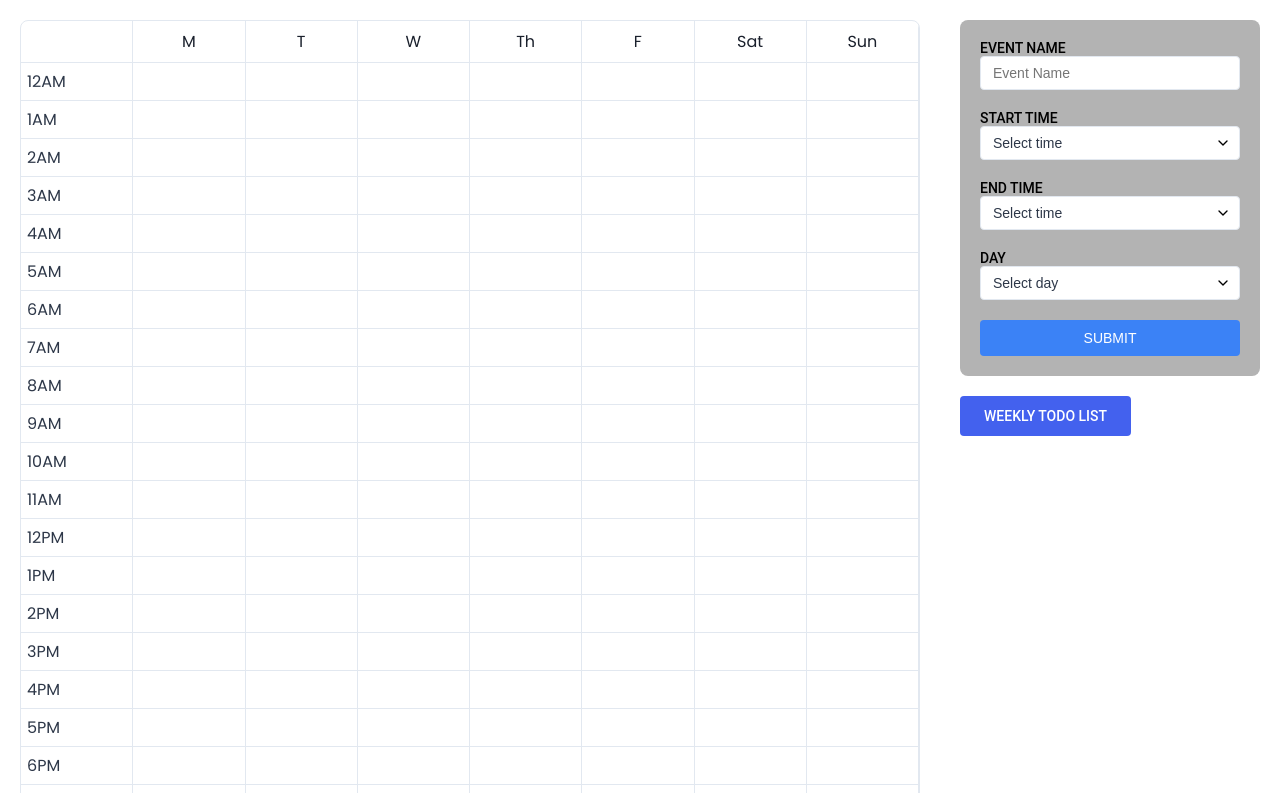
Test: Calendar Function Tests › tests createEvent
Type "New Event" into the field with placeholder "Event Name".
click(1110, 73); type("New Event")  # box top-left (980, 56), bottom-right (1240, 90)
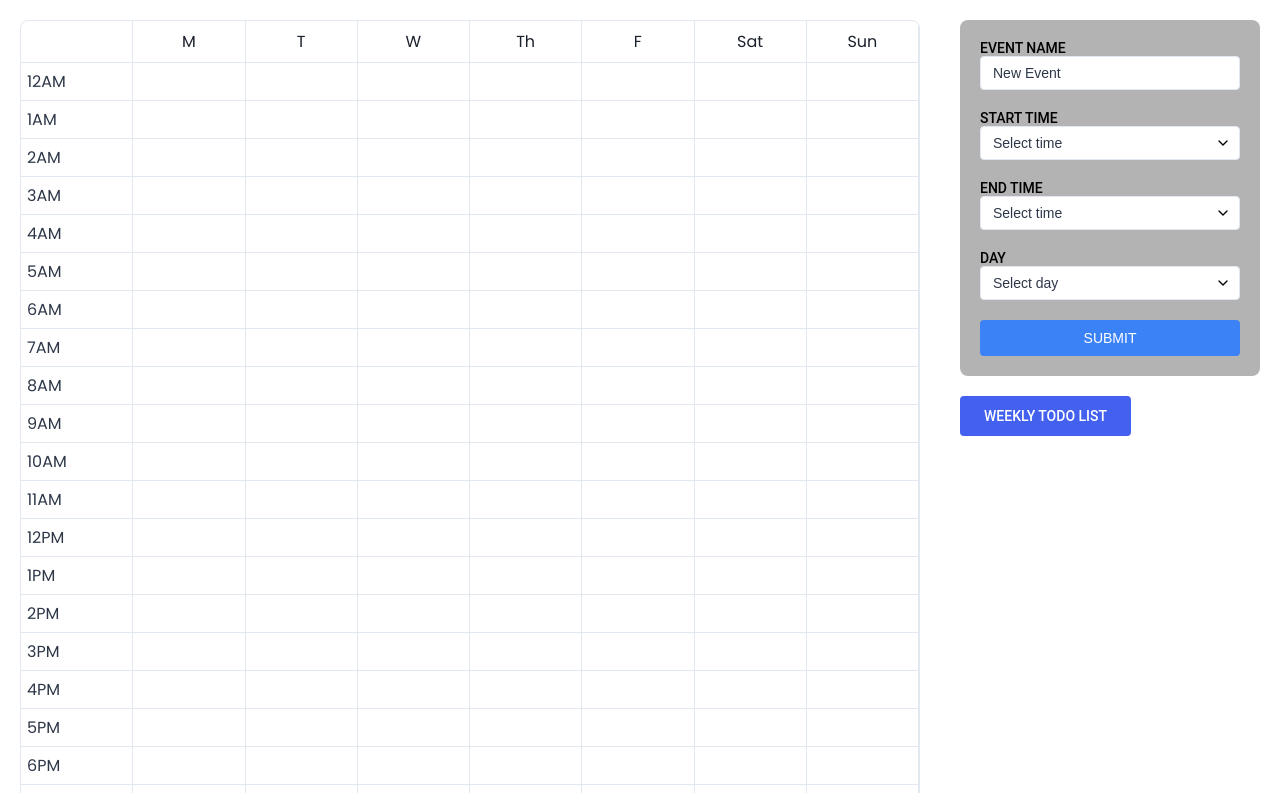
Select "1AM" in the dropdown labelled "Start Time" at [1110, 143], box top-left (980, 126), bottom-right (1240, 160)
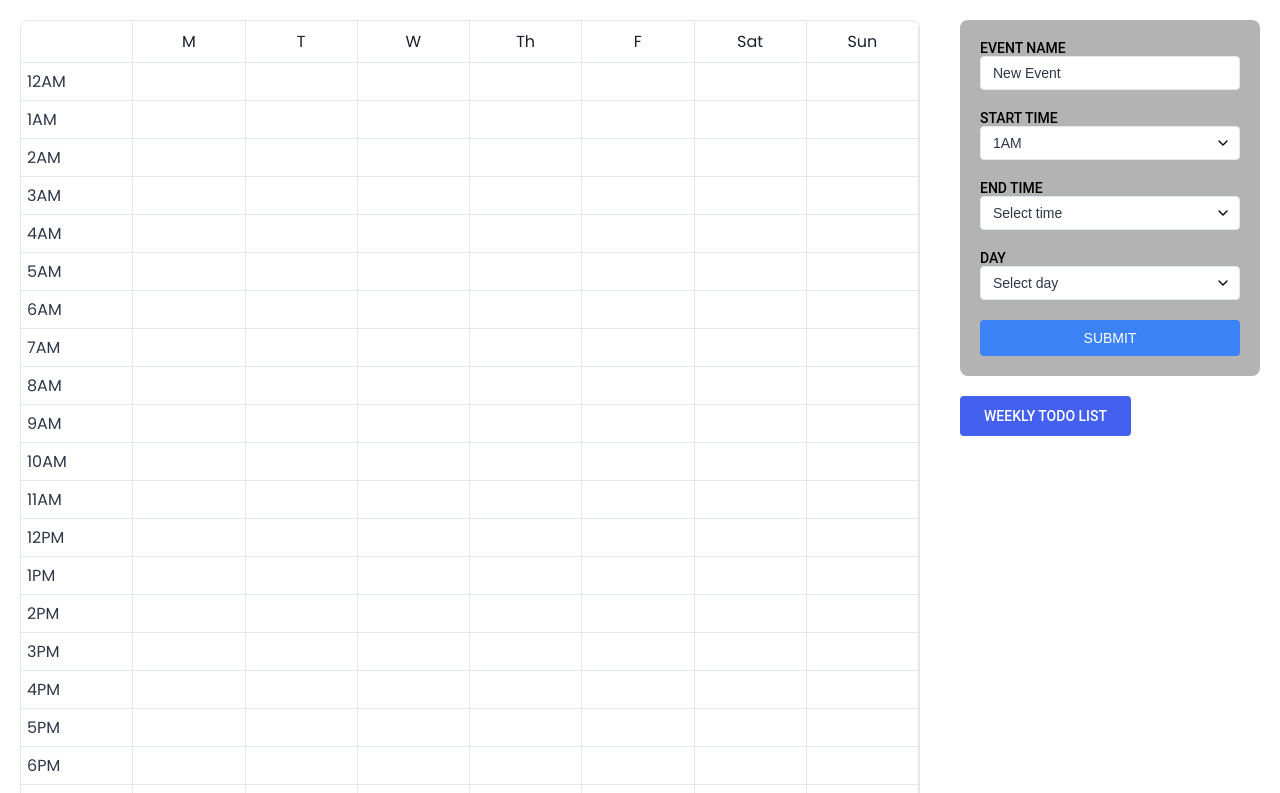
Select "3AM" in the dropdown labelled "End Time" at [1110, 213], box top-left (980, 196), bottom-right (1240, 230)
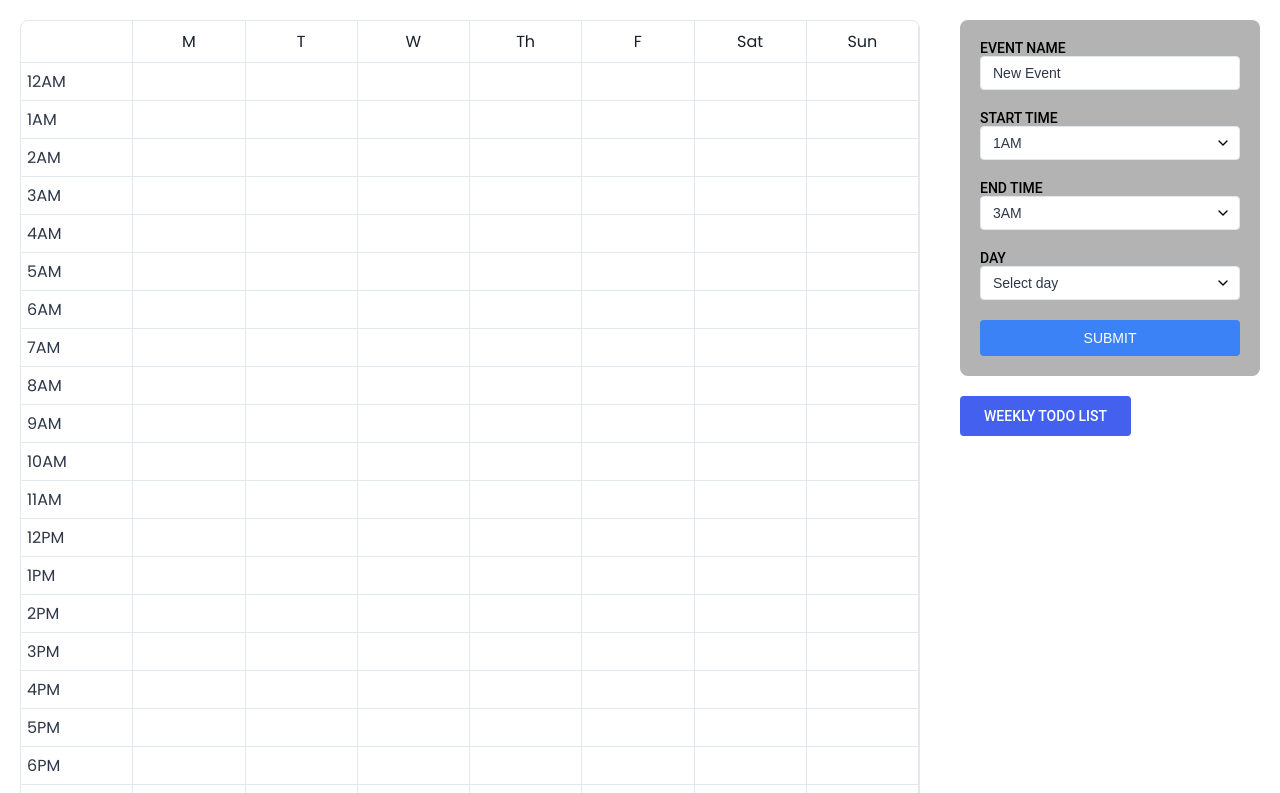
Select "M" in the dropdown labelled "Day" at [1110, 283], box top-left (980, 266), bottom-right (1240, 300)
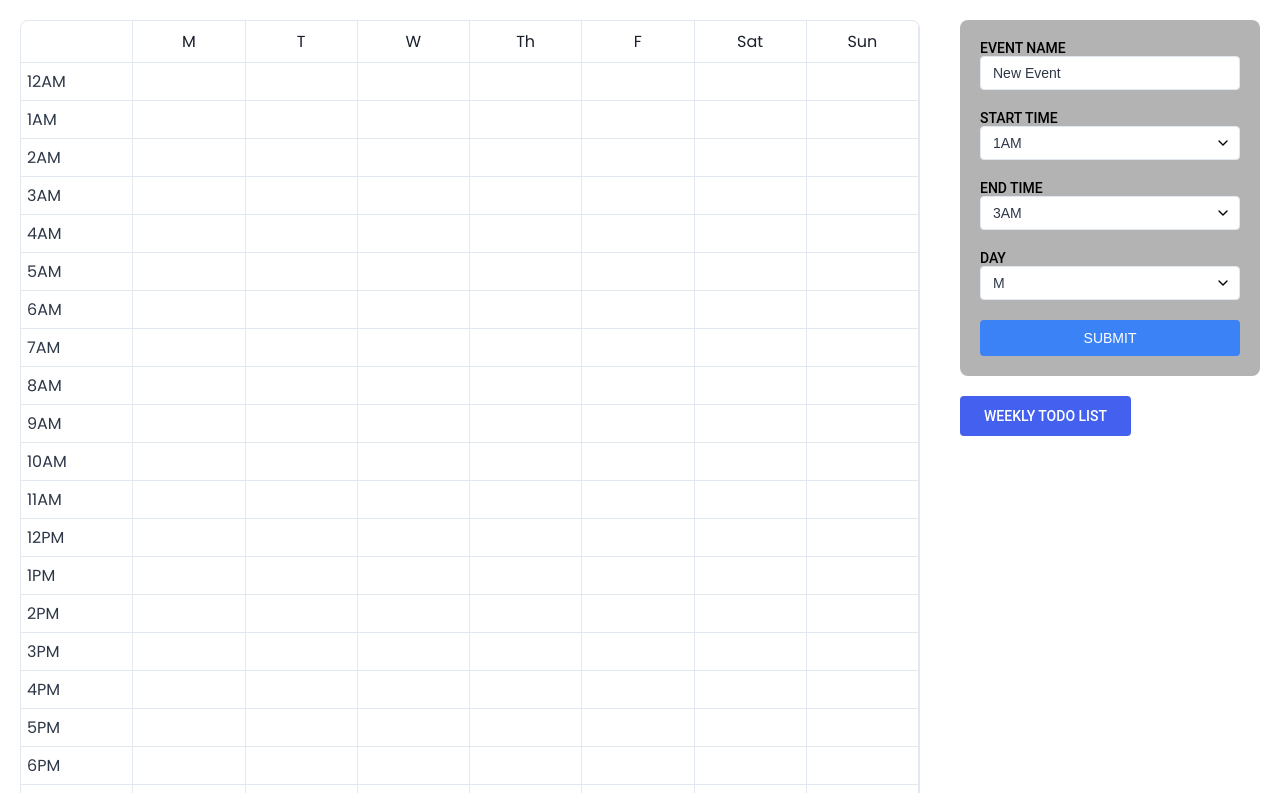
Click the button "SUBMIT".
click(1110, 338)  # box top-left (980, 320), bottom-right (1240, 356)
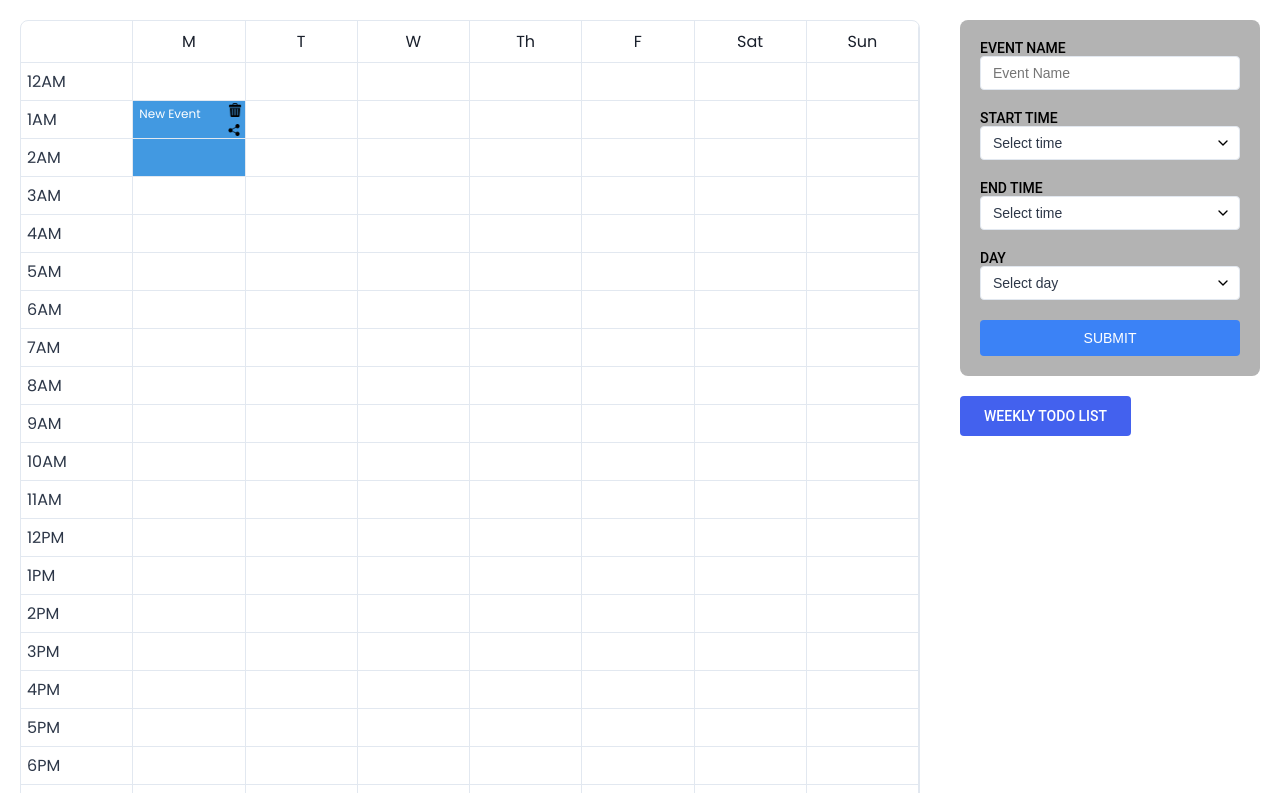
Check: the text "New Event" is shown, box top-left (139, 105), bottom-right (201, 122)
